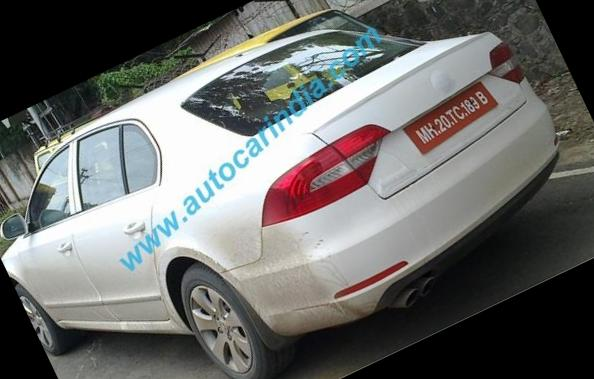plate: (387, 68, 521, 164)
